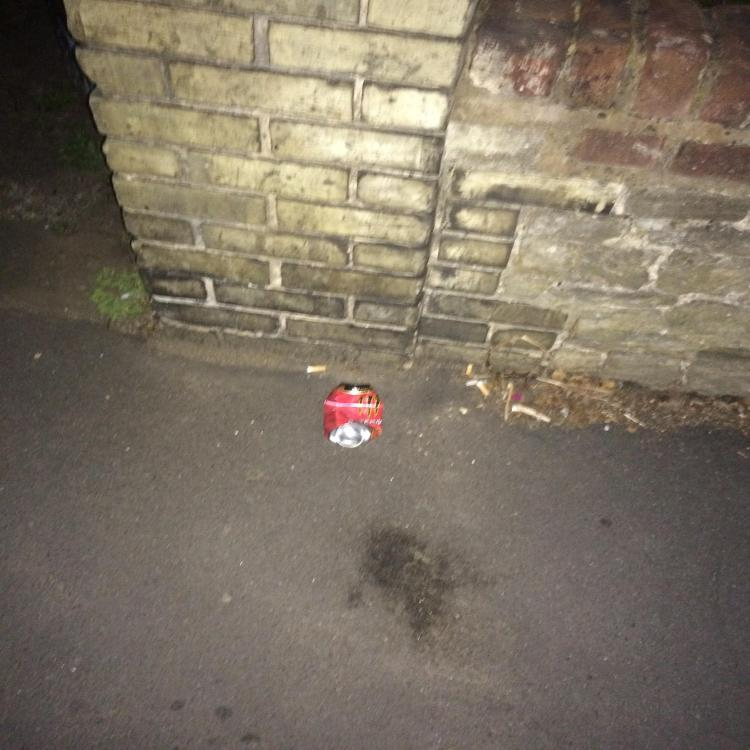Cigarette: (476, 382, 490, 396), (308, 366, 326, 373)
Drink can: (324, 384, 383, 448)
